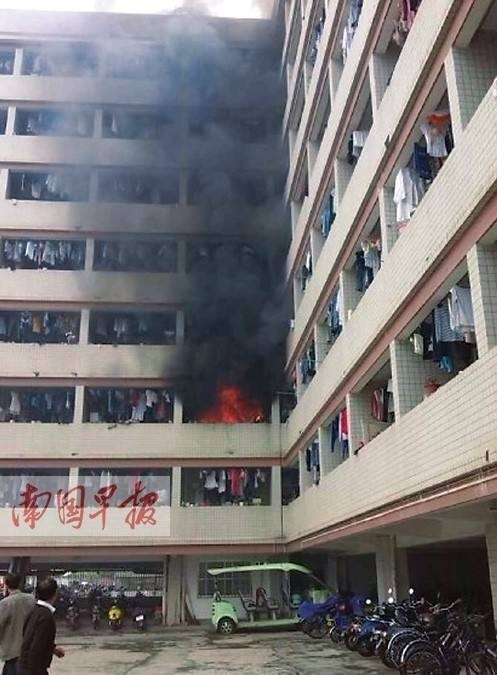fire: (192, 383, 267, 424)
